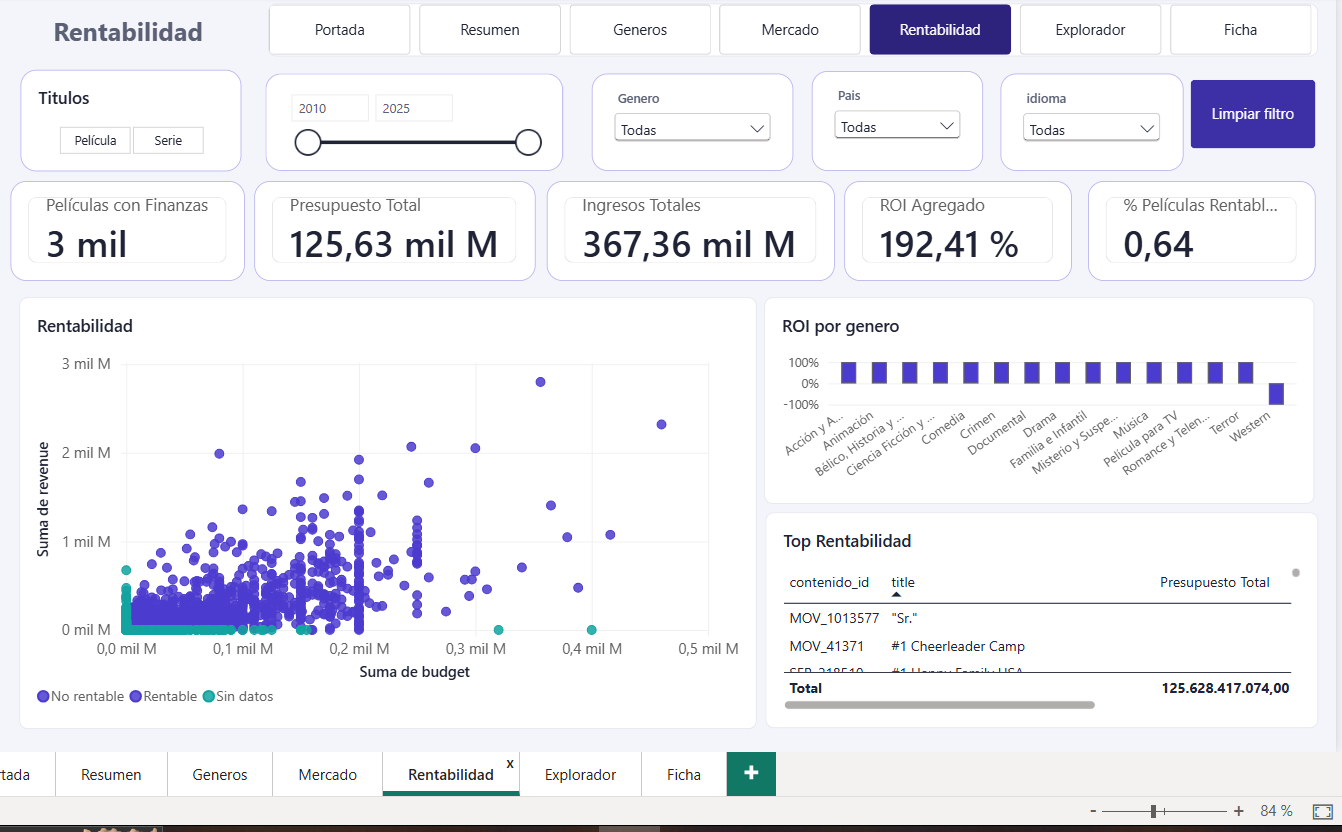

This screenshot's page, from the dashboard's own definition file:
{"tool":"powerbi","page":{"name":"Rentabilidad","canvas":[1280,720],"ordinal":4},"visuals":[{"type":"textbox","box":[10,0,238.3,63.3],"z":0},{"type":"actionButton","box":[1140,80,119.1,65.5],"z":1000},{"type":"pageNavigator","box":[262,7,1000,50],"z":2000},{"type":"slicer","fields":{"Values":["dim_idioma.idioma"]},"box":[959,74,174,93],"z":3000},{"type":"slicer","fields":{"Values":["dim_pais.pais_nombre"]},"box":[780,72,163,95],"z":4000},{"type":"slicer","fields":{"Values":["dim_genero.genero_agrupado"]},"box":[570,74,192,93],"z":5000},{"type":"slicer","fields":{"Values":["fact_contenidos.release_year"]},"box":[259,74,283,93],"z":6000},{"type":"slicer","title":"Titulos","fields":{"Values":["fact_contenidos.tipo_es"]},"box":[26,70,210,97],"z":7000},{"type":"scatterChart","title":"Rentabilidad","fields":{"Category":["fact_contenidos.contenido_id"],"Series":["fact_contenidos.rentabilidad"],"X":["Sum(fact_contenidos.budget)"],"Y":["Sum(fact_contenidos.revenue)"]},"box":[25.6,286.7,702.2,411.1],"z":8000},{"type":"hundredPercentStackedColumnChart","title":"ROI por genero ","fields":{"Category":["dim_genero.genero_agrupado"],"Y":["_Medidas.ROI Mediano"]},"box":[735,287,524,197],"z":9000},{"type":"tableEx","title":"Top Rentabilidad","fields":{"Values":["fact_contenidos.contenido_id","fact_contenidos.title","_Medidas.Presupuesto Total","_Medidas.Ingresos Totales","_Medidas.ROI Mediano","_Medidas.Top N Valor"]},"box":[735.6,492.2,526.7,205.6],"z":10000},{"type":"cardVisual","fields":{"Data":["_Medidas.Películas con Finanzas"]},"box":[16.7,176.7,223.3,95.6],"z":11000},{"type":"cardVisual","fields":{"Data":["_Medidas.Presupuesto Total"]},"box":[248.9,176.7,267.8,95.6],"z":12000},{"type":"cardVisual","fields":{"Data":["_Medidas.ROI Agregado"]},"box":[811.1,176.7,216.7,95.6],"z":13000},{"type":"cardVisual","fields":{"Data":["_Medidas.Ingresos Totales"]},"box":[527.8,176.7,274.4,95.6],"z":14000},{"type":"cardVisual","fields":{"Data":["_Medidas.% Películas Rentables"]},"box":[1043.3,176.7,216.7,95.6],"z":15000}]}

Visuals, with their boxes on the page's 1280x720 design canvas (x1, y1, x2, y2). These are canvas units, not pixel positions in the 1342x832 screenshot, which may show the page scaled, cropped or inside an application window:
textbox: pyautogui.locateOnScreen(10, 0, 248, 63)
actionButton: pyautogui.locateOnScreen(1140, 80, 1259, 146)
pageNavigator: pyautogui.locateOnScreen(262, 7, 1262, 57)
slicer - dim_idioma.idioma: pyautogui.locateOnScreen(959, 74, 1133, 167)
slicer - dim_pais.pais_nombre: pyautogui.locateOnScreen(780, 72, 943, 167)
slicer - dim_genero.genero_agrupado: pyautogui.locateOnScreen(570, 74, 762, 167)
slicer - fact_contenidos.release_year: pyautogui.locateOnScreen(259, 74, 542, 167)
"Titulos" slicer: pyautogui.locateOnScreen(26, 70, 236, 167)
"Rentabilidad" scatterChart: pyautogui.locateOnScreen(26, 287, 728, 698)
"ROI por genero " hundredPercentStackedColumnChart: pyautogui.locateOnScreen(735, 287, 1259, 484)
"Top Rentabilidad" tableEx: pyautogui.locateOnScreen(736, 492, 1262, 698)
cardVisual - _Medidas.Películas con Finanzas: pyautogui.locateOnScreen(17, 177, 240, 272)
cardVisual - _Medidas.Presupuesto Total: pyautogui.locateOnScreen(249, 177, 517, 272)
cardVisual - _Medidas.ROI Agregado: pyautogui.locateOnScreen(811, 177, 1028, 272)
cardVisual - _Medidas.Ingresos Totales: pyautogui.locateOnScreen(528, 177, 802, 272)
cardVisual - _Medidas.% Películas Rentables: pyautogui.locateOnScreen(1043, 177, 1260, 272)
